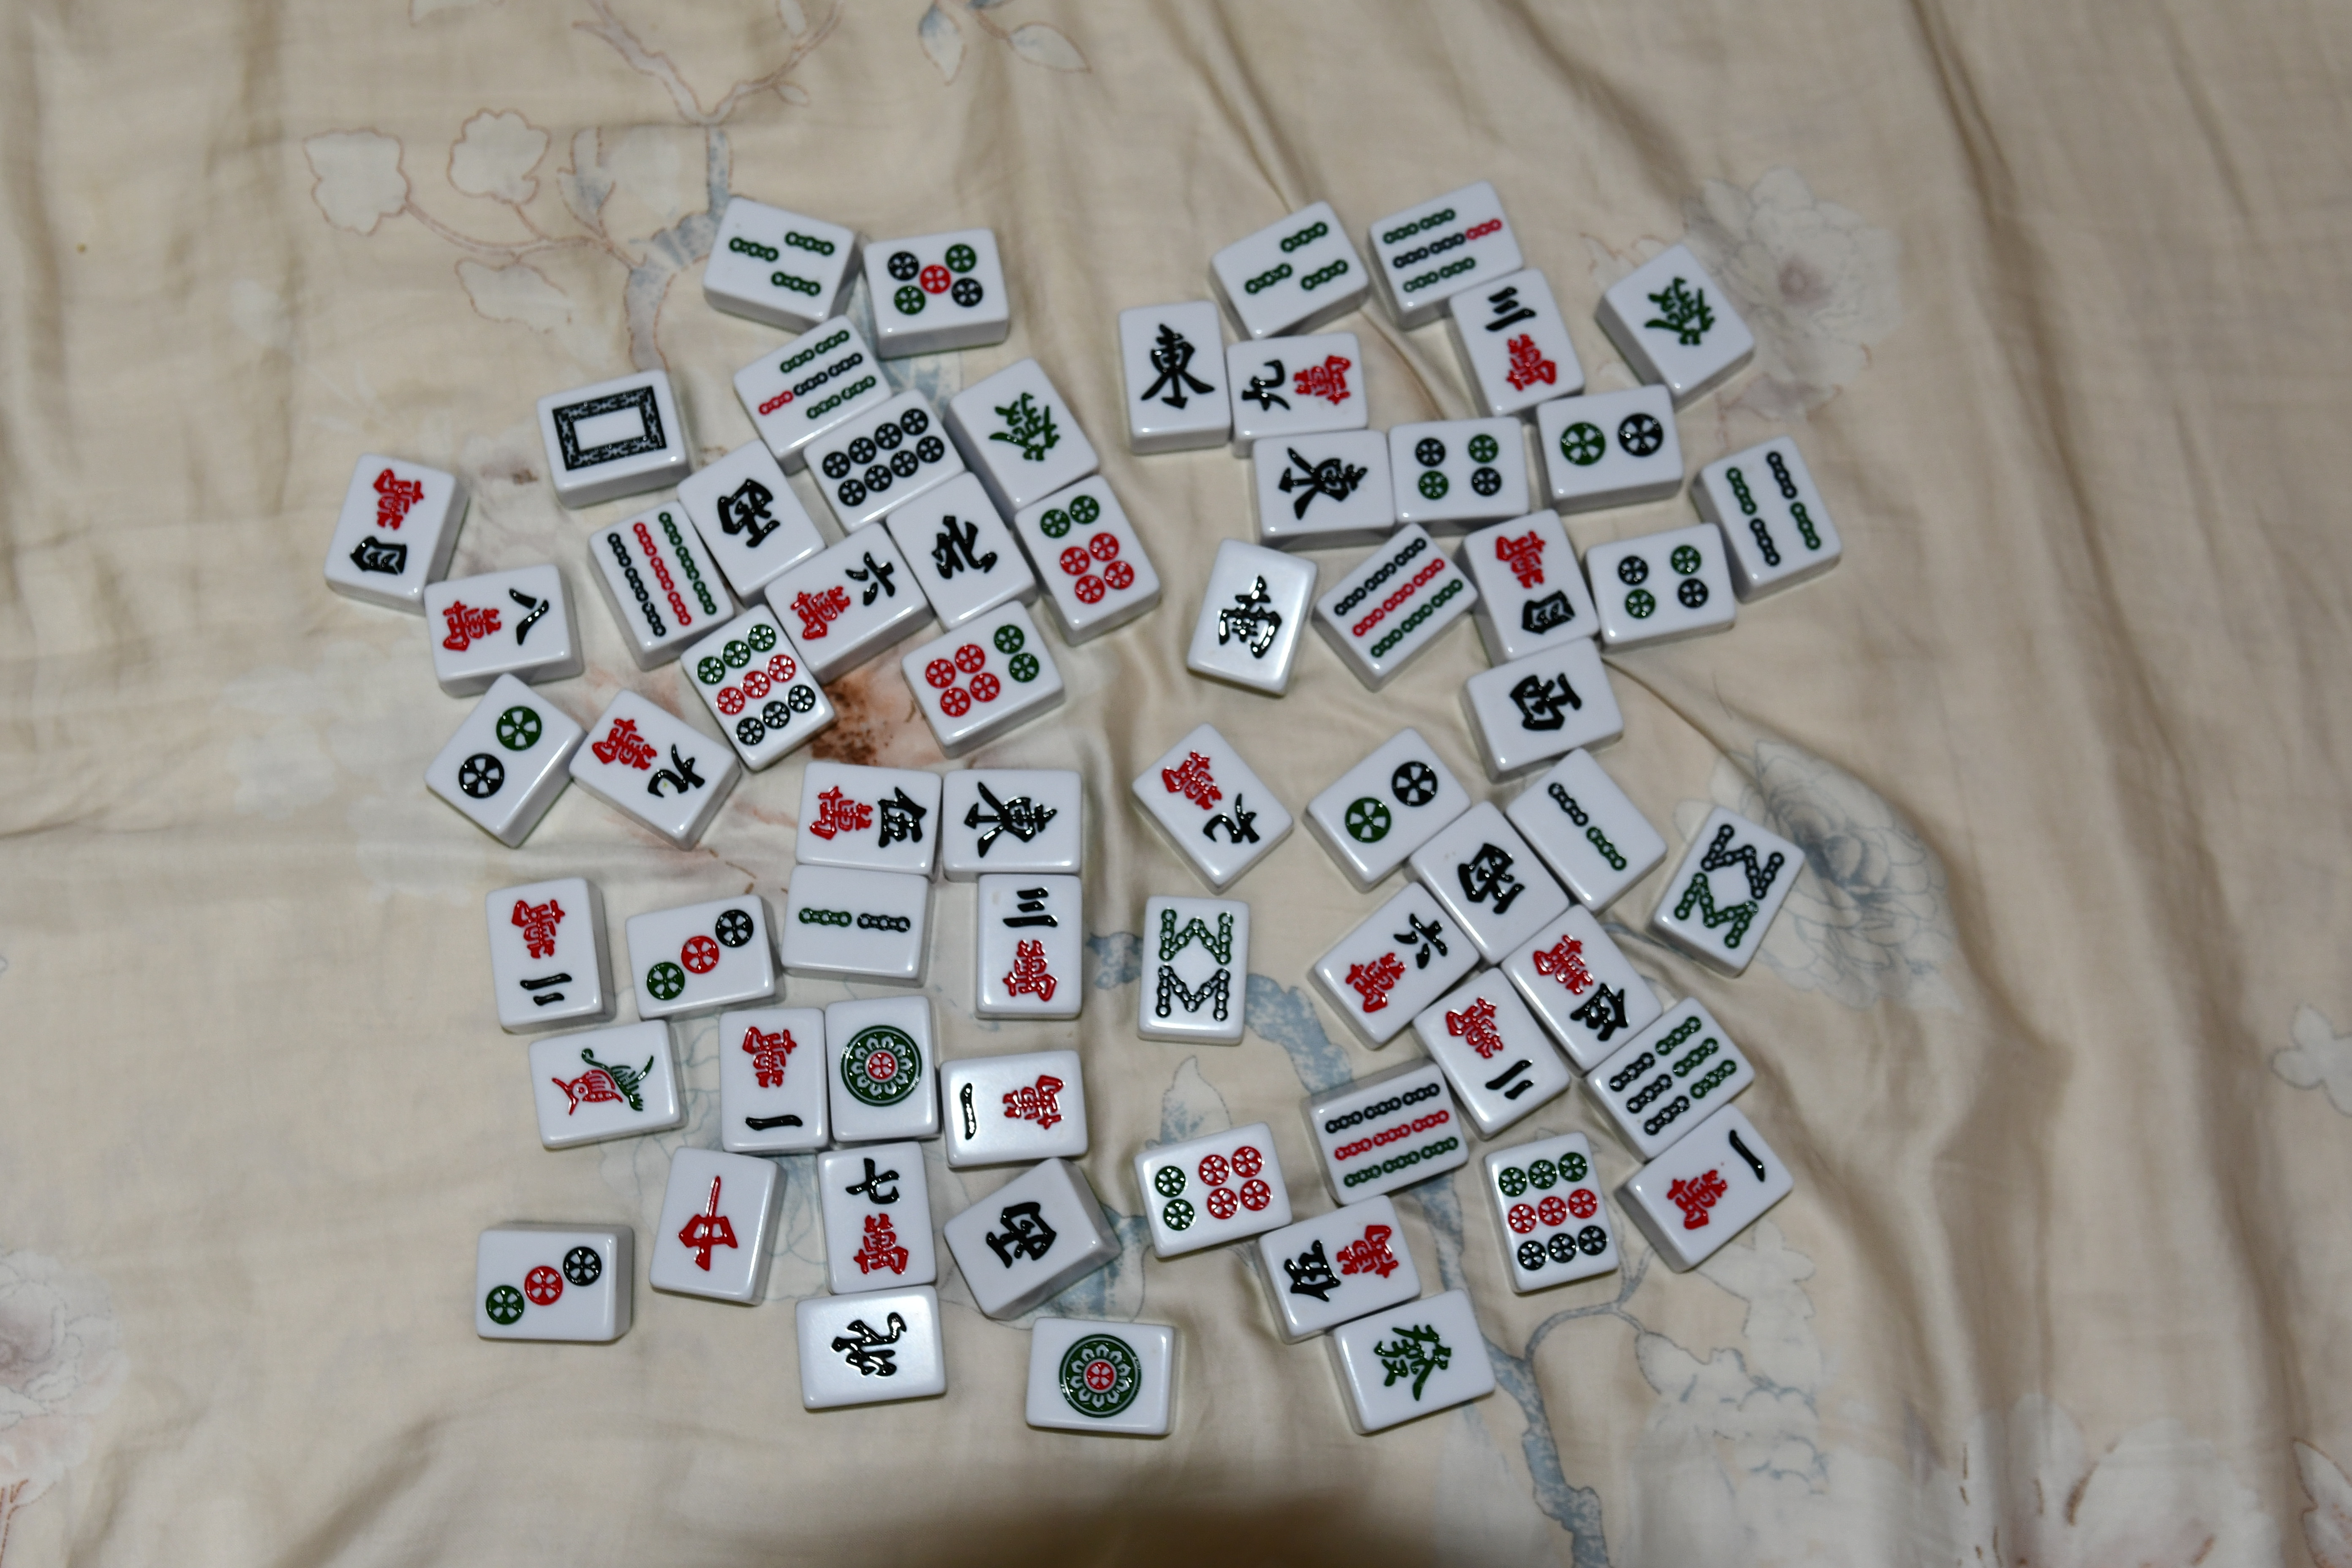b-1: (543, 1038, 662, 1123)
b-2: (1545, 780, 1633, 877), (791, 887, 917, 949)
b-3: (1241, 219, 1351, 301), (728, 220, 837, 298)
b-4: (1722, 451, 1822, 567)
b-6: (1608, 1017, 1739, 1139)
b-7: (754, 329, 878, 422), (1379, 208, 1507, 294)
b-8: (1670, 821, 1785, 952), (1146, 901, 1236, 1027)
b-9: (1332, 535, 1468, 662), (1325, 1080, 1460, 1190), (606, 508, 719, 637)
c-1: (1664, 1129, 1766, 1232), (728, 1024, 809, 1138), (955, 1074, 1066, 1143)
c-2: (1446, 994, 1535, 1104), (508, 893, 576, 1004)
c-3: (1479, 282, 1561, 397), (994, 884, 1064, 1001)
c-4: (345, 462, 431, 579), (1491, 527, 1579, 639)
c-5: (1531, 927, 1629, 1041), (1279, 1220, 1400, 1307), (807, 775, 929, 856)
c-6: (1340, 912, 1449, 1017), (789, 551, 894, 641)
c-7: (840, 1155, 919, 1283)
c-8: (436, 583, 555, 662)
c-9: (1152, 747, 1264, 849), (588, 716, 707, 803), (1239, 348, 1353, 418)
d-1: (1054, 1330, 1144, 1425), (840, 1022, 926, 1113)
d-2: (1340, 756, 1440, 849), (455, 704, 544, 803), (1556, 410, 1668, 471)
d-3: (485, 1239, 609, 1334), (644, 908, 754, 1003)
d-4: (1610, 539, 1715, 627), (1412, 432, 1507, 502)
d-5: (880, 242, 989, 319)
d-6: (1146, 1144, 1276, 1234), (1038, 494, 1138, 609), (924, 623, 1041, 718)
d-8: (819, 408, 945, 506)
d-9: (697, 621, 821, 751), (1498, 1150, 1612, 1274)
honors-east: (959, 775, 1059, 859), (1274, 441, 1370, 521), (1138, 319, 1215, 415)
honors-green: (1370, 1319, 1453, 1405), (989, 378, 1064, 469), (1638, 271, 1719, 348)
honors-north: (826, 1307, 910, 1388), (926, 508, 1003, 586)
honors-red: (669, 1169, 740, 1276)
honors-south: (1211, 572, 1285, 660)
honors-west: (709, 469, 786, 551), (980, 1199, 1055, 1276), (1507, 669, 1587, 737), (1458, 842, 1530, 915)
honors-white: (548, 383, 672, 476)
